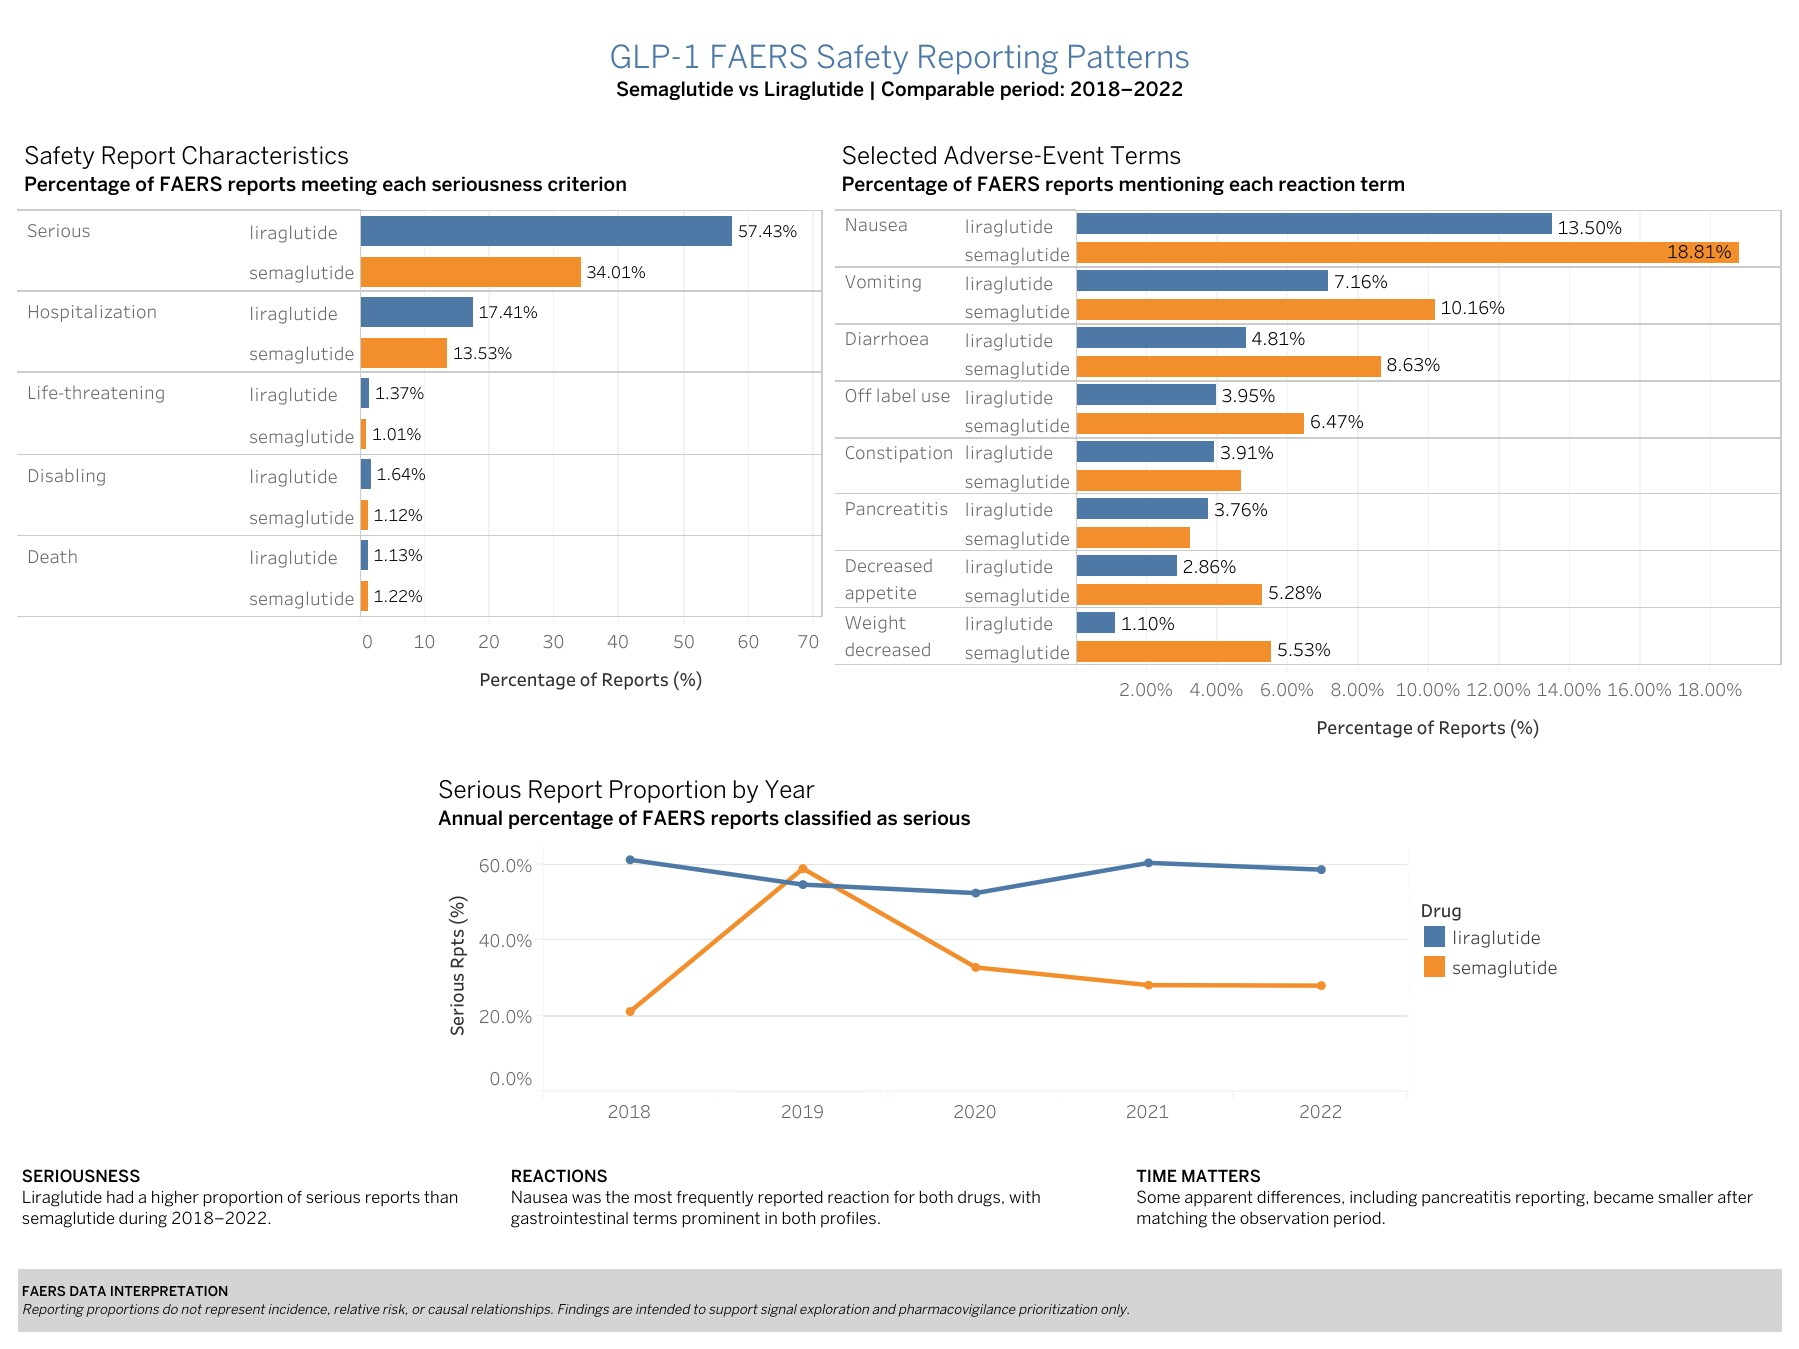

What the dashboard file says about the page in this screenshot:
{"tool":"tableau","page":{"name":"Dashboard 1","canvas":[1200,900],"ordinal":0},"visuals":[{"type":"title","box":[8,8,1184,74]},{"type":"worksheet","title":"Safety Report clasif","mark":"Bar","rows":["generic_name"],"box":[8,82,545,391]},{"type":"worksheet","title":"Adverse events","mark":"Bar","rows":["reaction","generic_name"],"cols":["report_pct"],"box":[553,82,639,423]},{"type":"worksheet","title":"Report By Year","mark":"Line","rows":["serious_rate"],"cols":["report_year"],"box":[284,505,658,248]},{"type":"legend","title":"Safety Report clasif","param":"[federated.19p1t3w07dlwmq112tmpr1c4afws].[none:generic_name:nk]","box":[942,591,250,84]},{"type":"text","box":[8,753,326,89]},{"type":"text","box":[334,753,417,89]},{"type":"text","box":[751,753,441,89]},{"type":"text","box":[8,842,1184,50]}]}

Visuals, with their boxes in screenshot pixels (x1, y1, x2, y2), scaled from the page's 1200x900 canvas onto the 1799x1349 screenshot:
title: [x1=12, y1=12, x2=1787, y2=123]
"Safety Report clasif" worksheet (Bar marks): [x1=12, y1=123, x2=829, y2=709]
"Adverse events" worksheet (Bar marks): [x1=829, y1=123, x2=1787, y2=757]
"Report By Year" worksheet (Line marks): [x1=426, y1=757, x2=1412, y2=1129]
"Safety Report clasif" legend: [x1=1412, y1=886, x2=1787, y2=1012]
text: [x1=12, y1=1129, x2=501, y2=1262]
text: [x1=501, y1=1129, x2=1126, y2=1262]
text: [x1=1126, y1=1129, x2=1787, y2=1262]
text: [x1=12, y1=1262, x2=1787, y2=1337]
